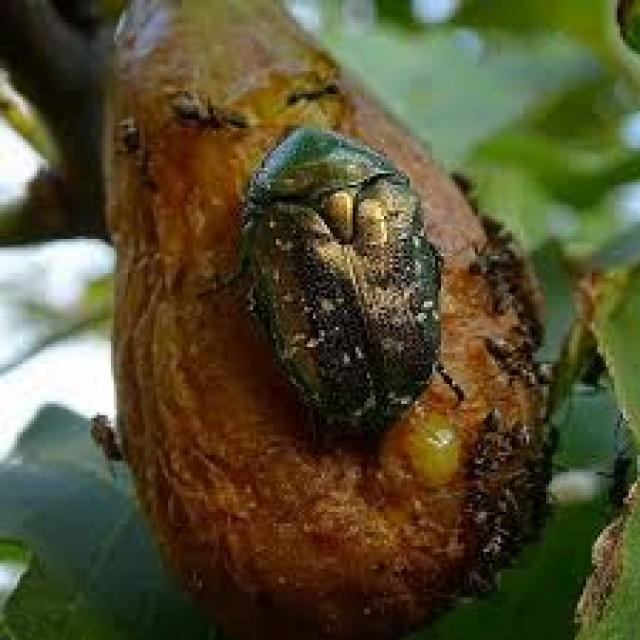organic waste: (100, 0, 549, 637)
